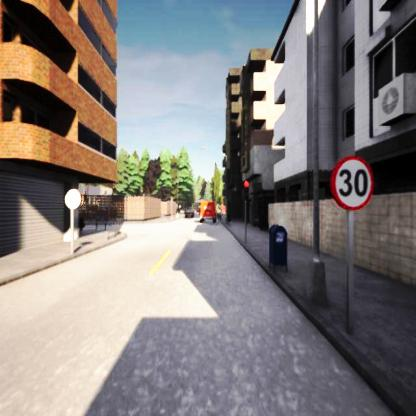vehicle: (199, 199, 216, 223)
